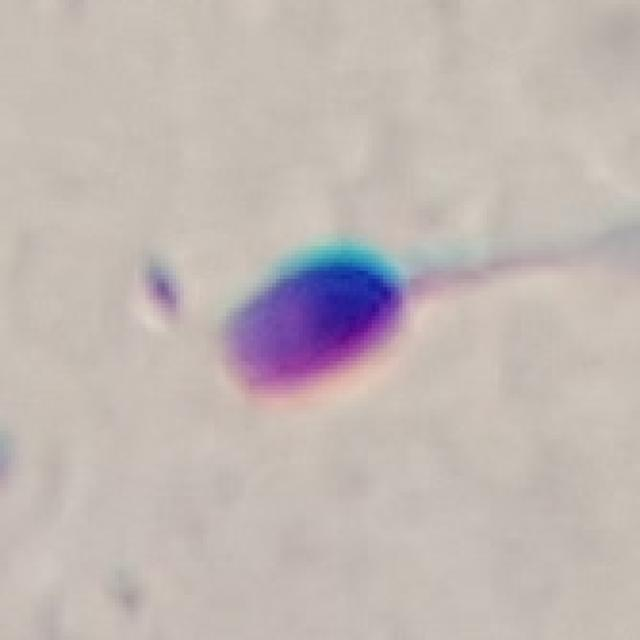normal sperm: (214, 221, 640, 397)
